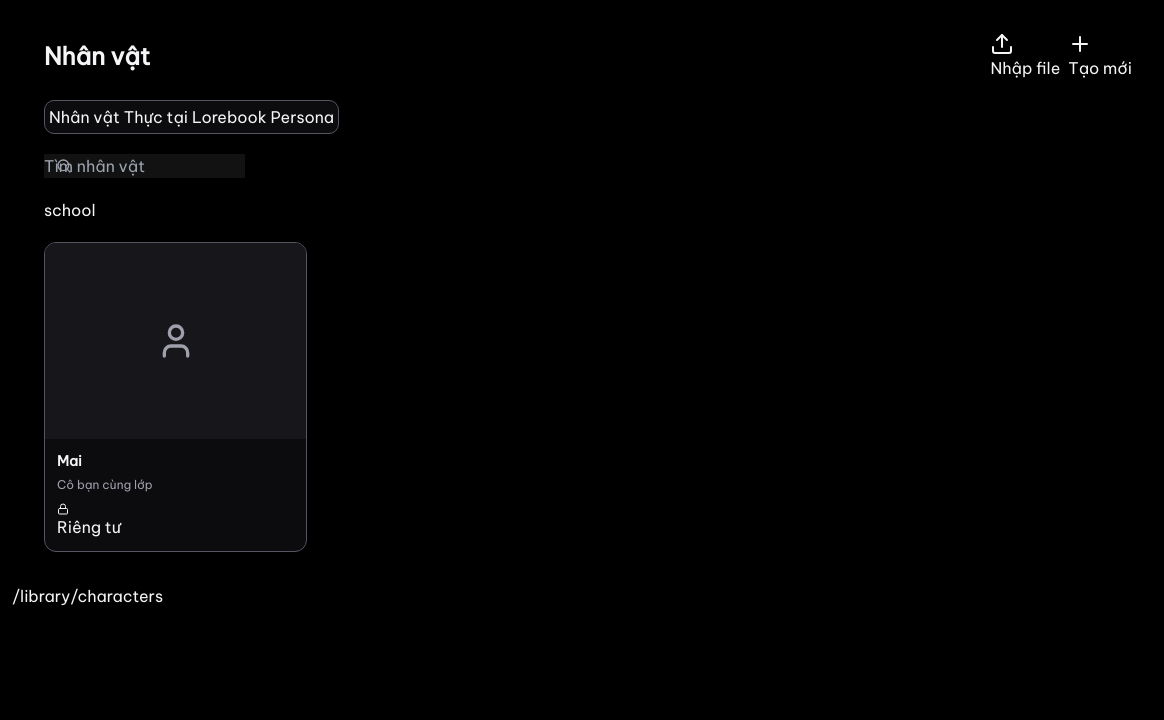
Test: characters list › shows a no-results message instead of the create CTA while filtering
Expected: the heading "Mai" is shown, [57,452,82,470]
Type "zzz" into the search field labelled "Tìm nhân vật". click: [144, 166]
box: [44,154,245,178]
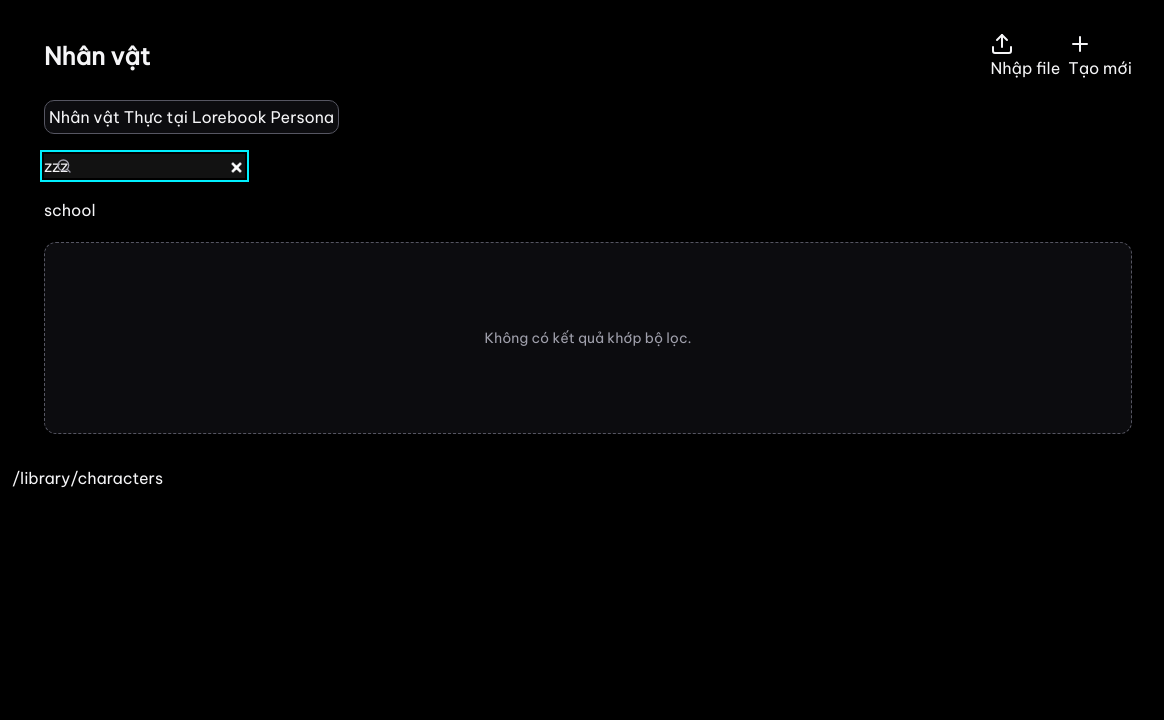
Expected: the text "Không có kết quả khớp bộ lọc." is shown, [484,328,692,348]
